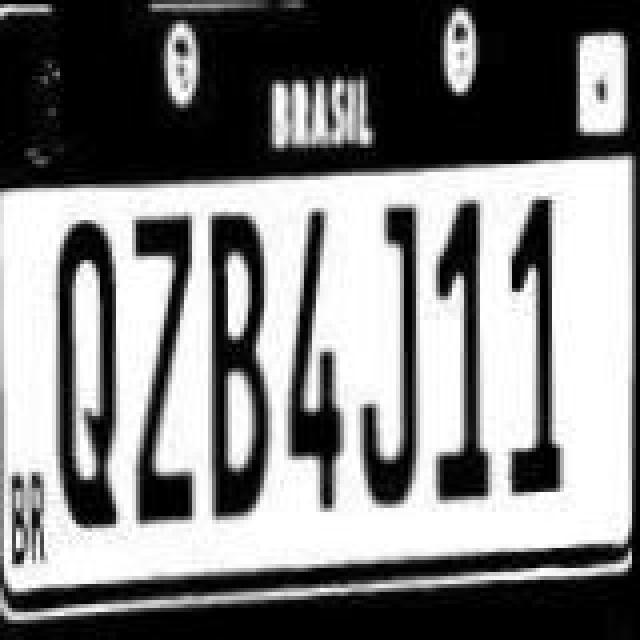1: (496, 188, 584, 500), (426, 196, 510, 500)
4: (282, 204, 358, 504)
B: (206, 210, 282, 518)
J: (362, 200, 438, 504)
Q: (44, 214, 132, 530)
Z: (122, 212, 206, 528)
